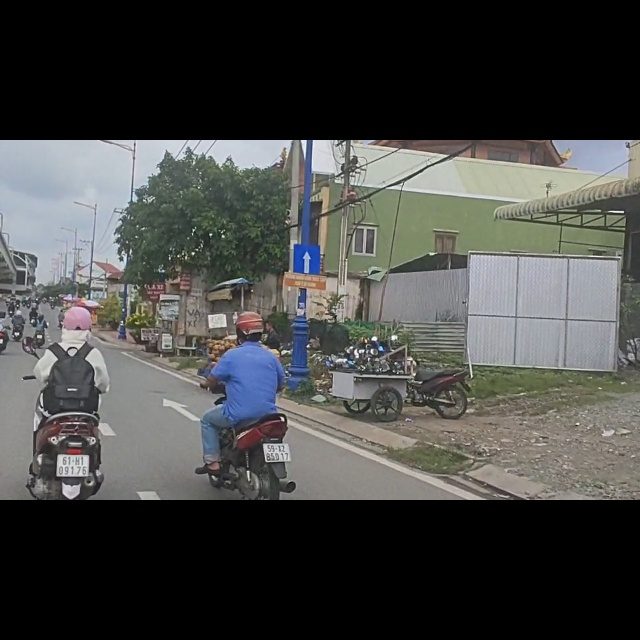bien_chi_dan: (294, 183, 321, 241)
